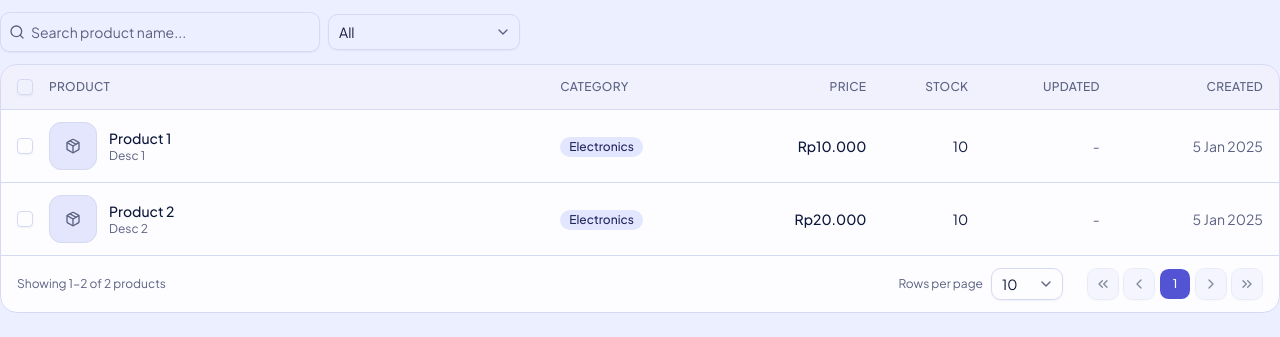
Test: ProductView: daftar dan search › Clear filters mengembalikan daftar produk
Type "zzz" into the field with placeholder "Search product name..." at (172, 32), box x1=25 y1=14 x2=319 y2=50
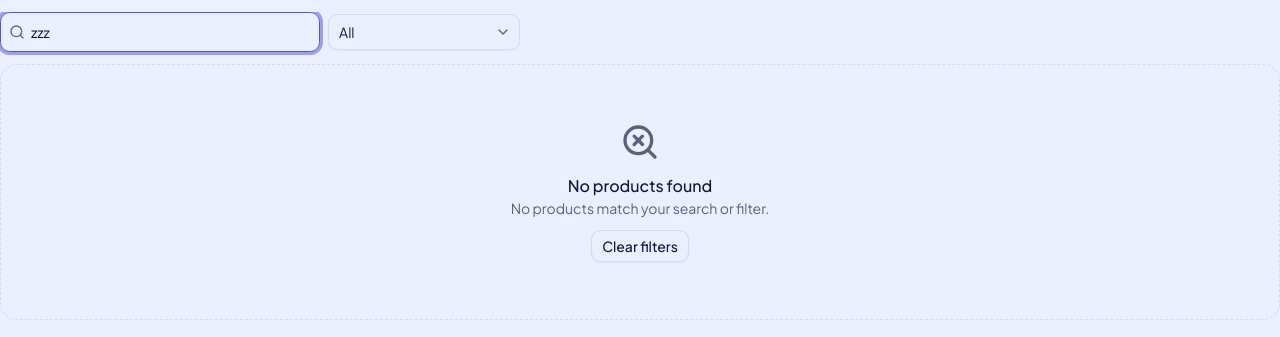
Click the button "Clear filters" at (640, 246), box x1=591 y1=230 x2=689 y2=262
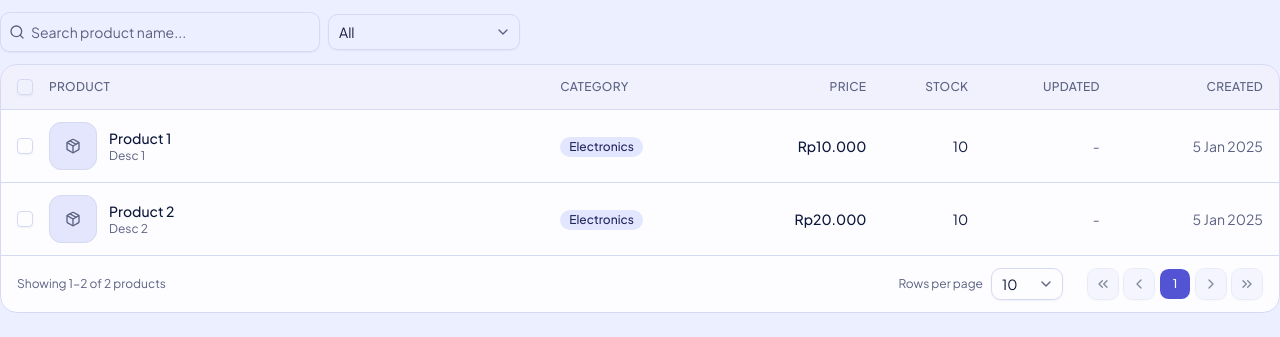
Result: the text "Product 1" is shown at x1=109 y1=128 x2=171 y2=148
Result: the field with placeholder "Search product name..." is empty at x1=25 y1=14 x2=319 y2=50
